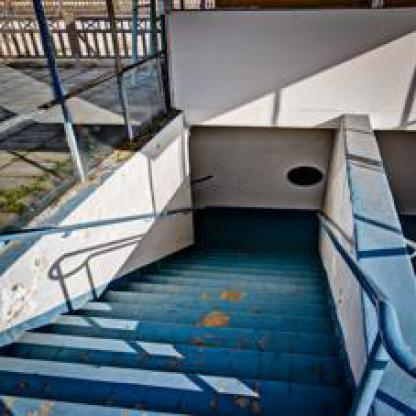stair_down: (19, 280, 346, 409)
